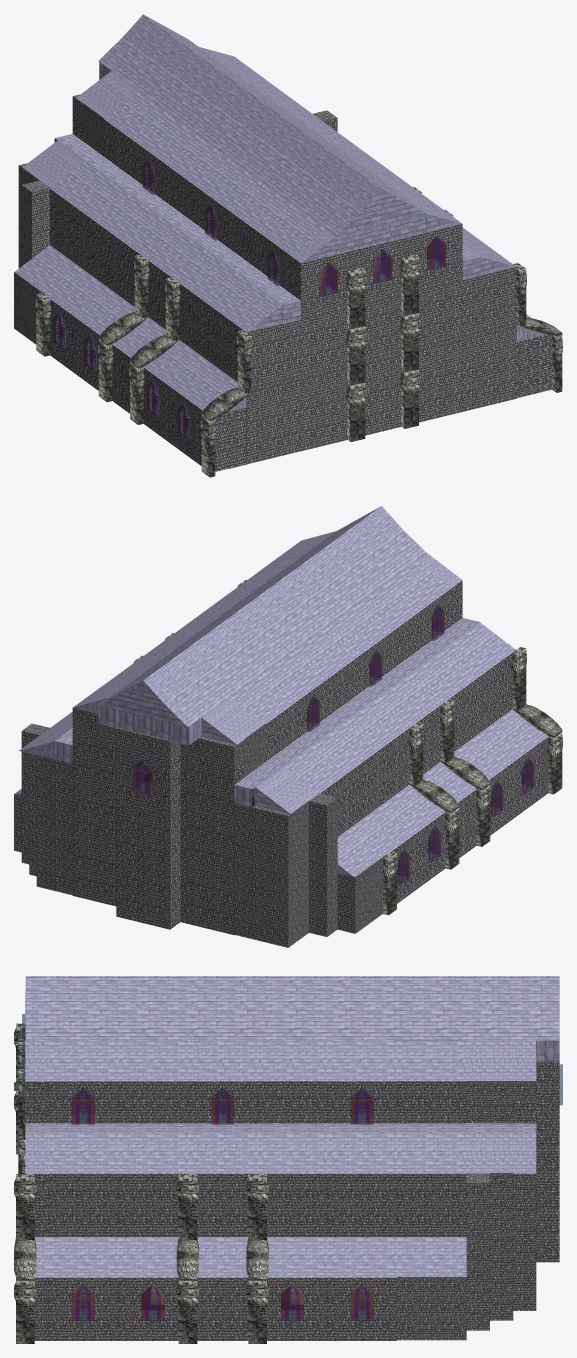
File: church2.fbx
The picture shows the model from 3 angles, top to bottom: view 1: azimuth 30°, elevation 25°; view 2: azimuth 150°, elevation 25°; view 3: azimuth 270°, elevation 25°; orthographic projection. The views are drawn at different scales.
Visible parts, largest first — view 1: roof tile end.005, roof tile end.007, wall.019, wall.003, wall.018, wall w/ window.013, wall.023, wall.005, wall.004, wall w/ window.004, wall.007, wall.024 (+64 smaller); view 2: roof tile end.005, roof tile end.007, wall.026, wall.028, wall w/ window.017, wall.032, wall.030, wall.025, wall.027, wall.029, wall.031, wall.009 (+74 smaller); view 3: roof tile end.005, roof tile end.006, wall.013, wall.017, wall.034, wall w/ window, wall w/ window.006, wall.016, wall.014, wall w/ window.005, wall w/ window.001, wall.015 (+92 smaller).
Boxes of the visible parts, left/top/right/bottom form: roof tile end.005: left=98, top=14, right=426, bottom=235; roof tile end.007: left=54, top=134, right=300, bottom=323; wall.019: left=462, top=267, right=516, bottom=336; wall.003: left=462, top=342, right=516, bottom=411; wall.018: left=246, top=395, right=300, bottom=464; wall w/ window.013: left=290, top=250, right=354, bottom=319; wall.023: left=236, top=320, right=300, bottom=387; wall.005: left=301, top=383, right=347, bottom=451; wall.004: left=301, top=308, right=347, bottom=375; wall w/ window.004: left=409, top=224, right=462, bottom=290; wall.007: left=419, top=355, right=462, bottom=422; wall.024: left=419, top=280, right=462, bottom=347; roof tile end.005: left=99, top=506, right=426, bottom=727; roof tile end.007: left=234, top=618, right=480, bottom=807; wall.026: left=116, top=804, right=180, bottom=873; wall.028: left=116, top=860, right=180, bottom=929; wall w/ window.017: left=116, top=747, right=180, bottom=816; wall.032: left=180, top=753, right=244, bottom=822; wall.030: left=180, top=809, right=234, bottom=878; wall.025: left=180, top=866, right=234, bottom=935; wall.027: left=72, top=726, right=116, bottom=793; wall.029: left=72, top=839, right=116, bottom=906; wall.031: left=72, top=783, right=116, bottom=849; wall.009: left=475, top=657, right=506, bottom=735; roof tile end.005: left=25, top=976, right=559, bottom=1040; roof tile end.006: left=25, top=1123, right=536, bottom=1133; wall.013: left=48, top=1173, right=118, bottom=1236; wall.017: left=327, top=1173, right=396, bottom=1236; wall.034: left=397, top=1173, right=466, bottom=1236; wall w/ window: left=48, top=1277, right=118, bottom=1340; wall w/ window.006: left=327, top=1277, right=396, bottom=1340; wall.016: left=258, top=1173, right=327, bottom=1236; wall.014: left=118, top=1173, right=187, bottom=1236; wall w/ window.005: left=267, top=1277, right=327, bottom=1340; wall w/ window.001: left=118, top=1277, right=178, bottom=1340; wall.015: left=188, top=1173, right=257, bottom=1236.
Bounding box in the file's own units: 1960 × 1290 × 2363.
